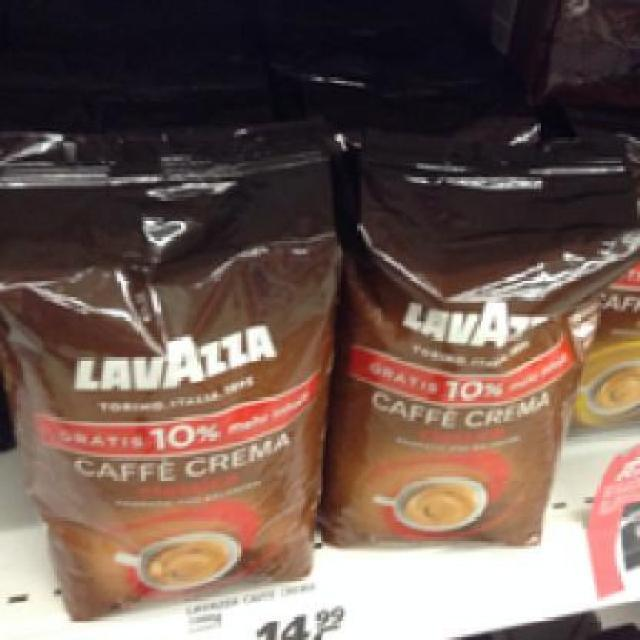Coffee: (0, 114, 326, 620), (320, 132, 637, 548)
